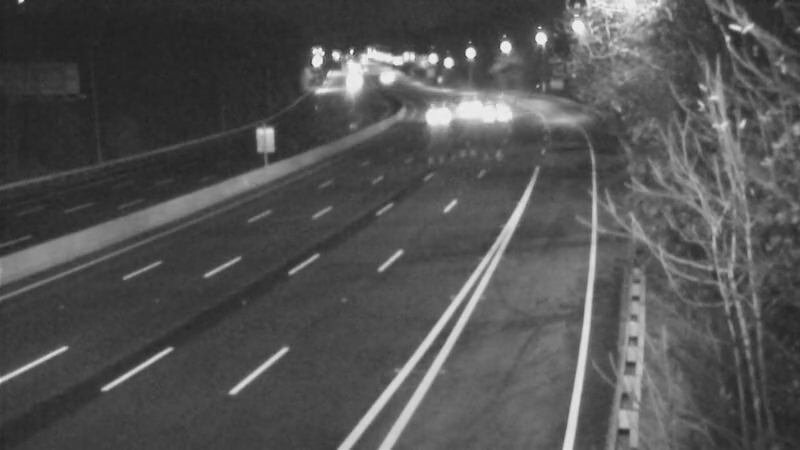vehicle: (361, 54, 411, 104), (438, 83, 488, 133), (414, 87, 464, 137), (470, 86, 520, 136)
